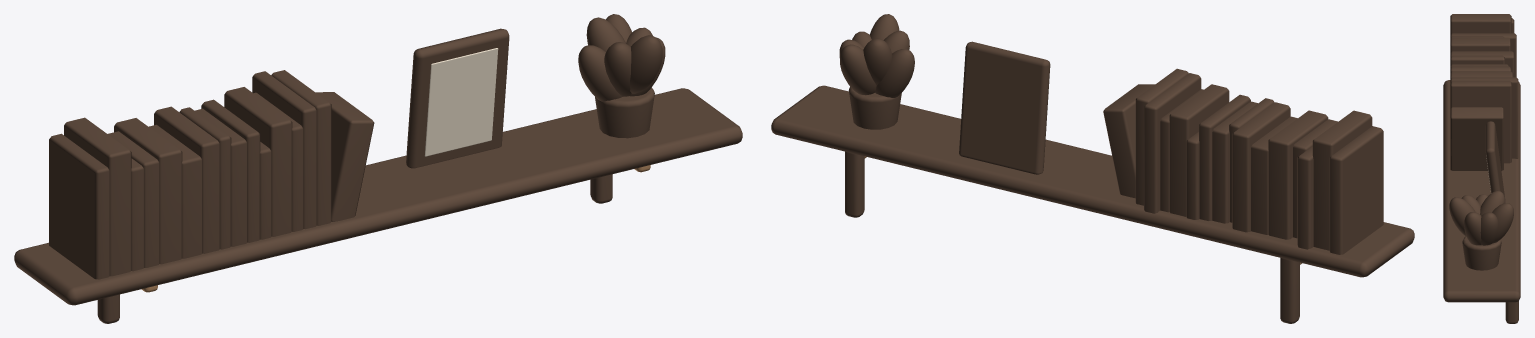
Rendered from wallshelf.glb.
The picture shows the model from 3 angles, left to right: view 1: azimuth 30°, elevation 25°; view 2: azimuth 150°, elevation 25°; view 3: azimuth 270°, elevation 25°; orthographic projection. The views are drawn at different scales.
Visible parts, largest first — view 1: wallshelf; view 2: wallshelf; view 3: wallshelf.
Part boxes in pixels (<box>): wallshelf: <box>14,14,742,323</box>; wallshelf: <box>771,14,1414,323</box>; wallshelf: <box>1443,14,1520,323</box>.
Size of the model in its own units: 1.51 by 0.4531 by 0.2287.
